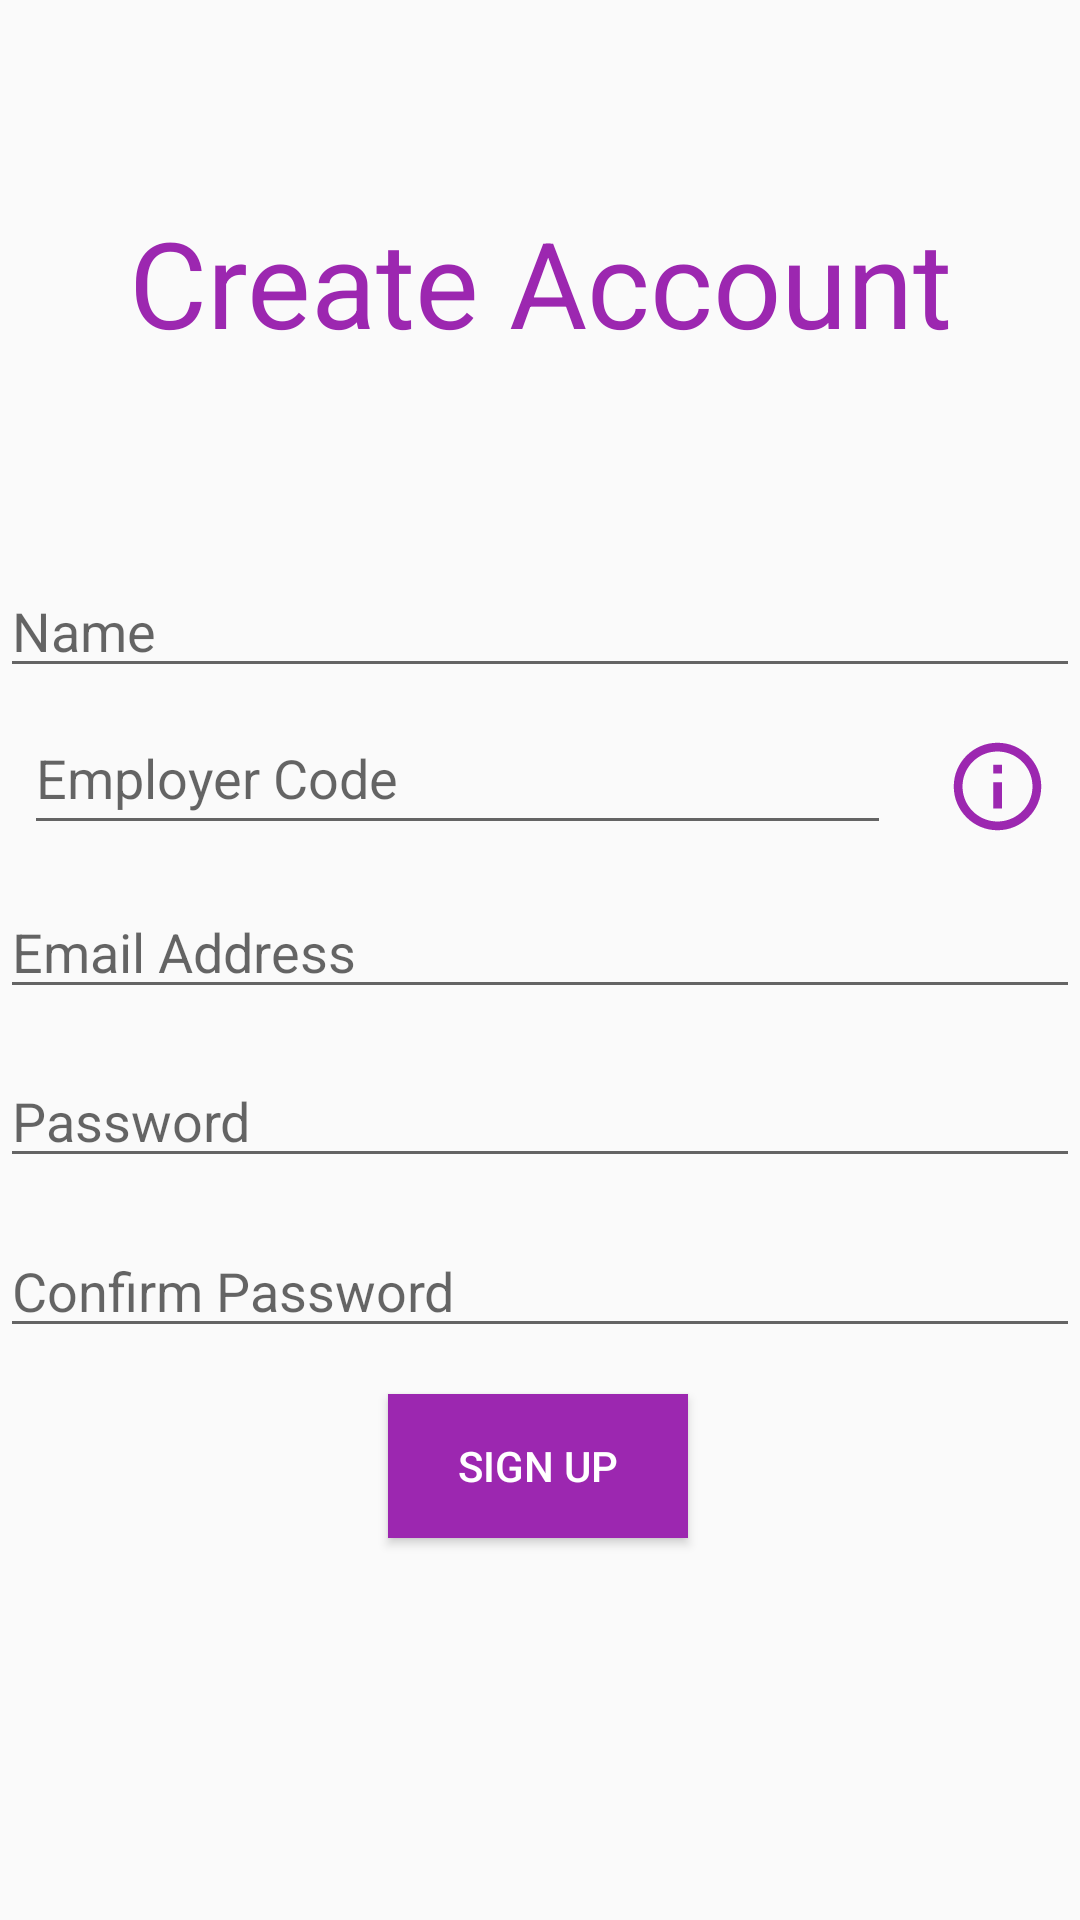

Named icons in this screenshot (1080x1920) and their centers, (x=x, y=y):
info: (x=997, y=786)
